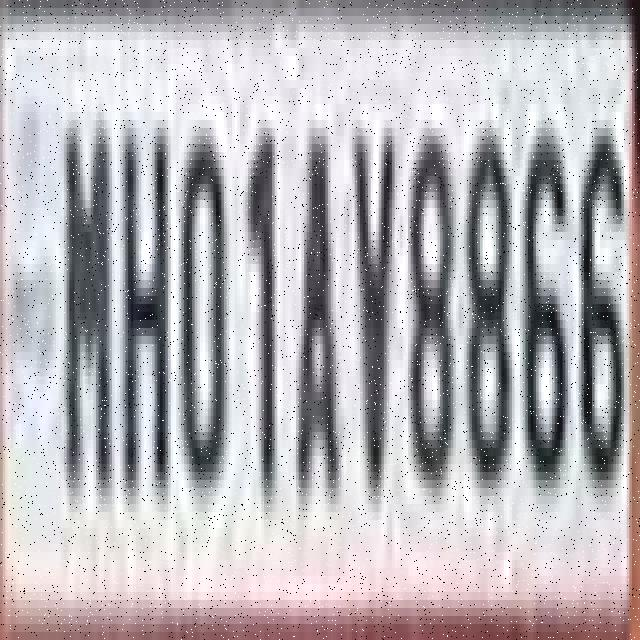licenseplate: (2, 0, 640, 632)
